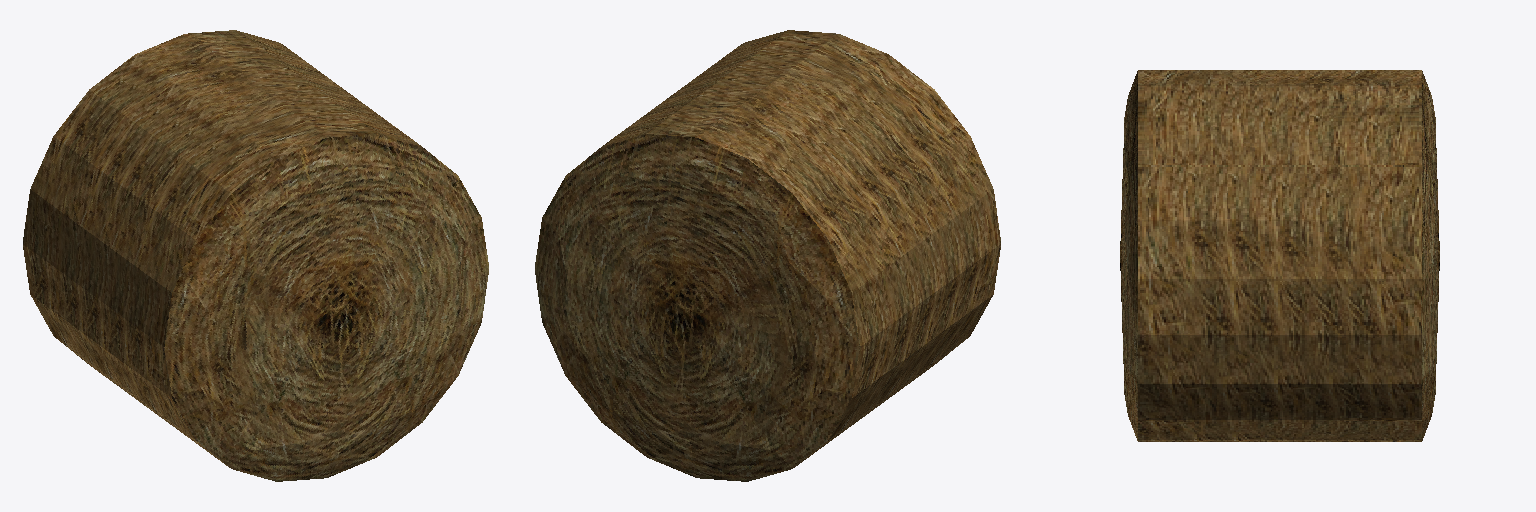
3 views of the same model, side by side, from view 1: azimuth 30°, elevation 25°; view 2: azimuth 150°, elevation 25°; view 3: azimuth 270°, elevation 25° (orthographic).
Parts seen in each view (by area): view 1: Cylinder.001; view 2: Cylinder.001; view 3: Cylinder.001.
Part boxes in pixels (x1,y1,x2,y2): Cylinder.001: (23,30,488,481); Cylinder.001: (535,30,1000,481); Cylinder.001: (1120,70,1439,441).
Size of the model in its own units: 1.9 by 1.9 by 1.62.
1 materials, 1 textured.